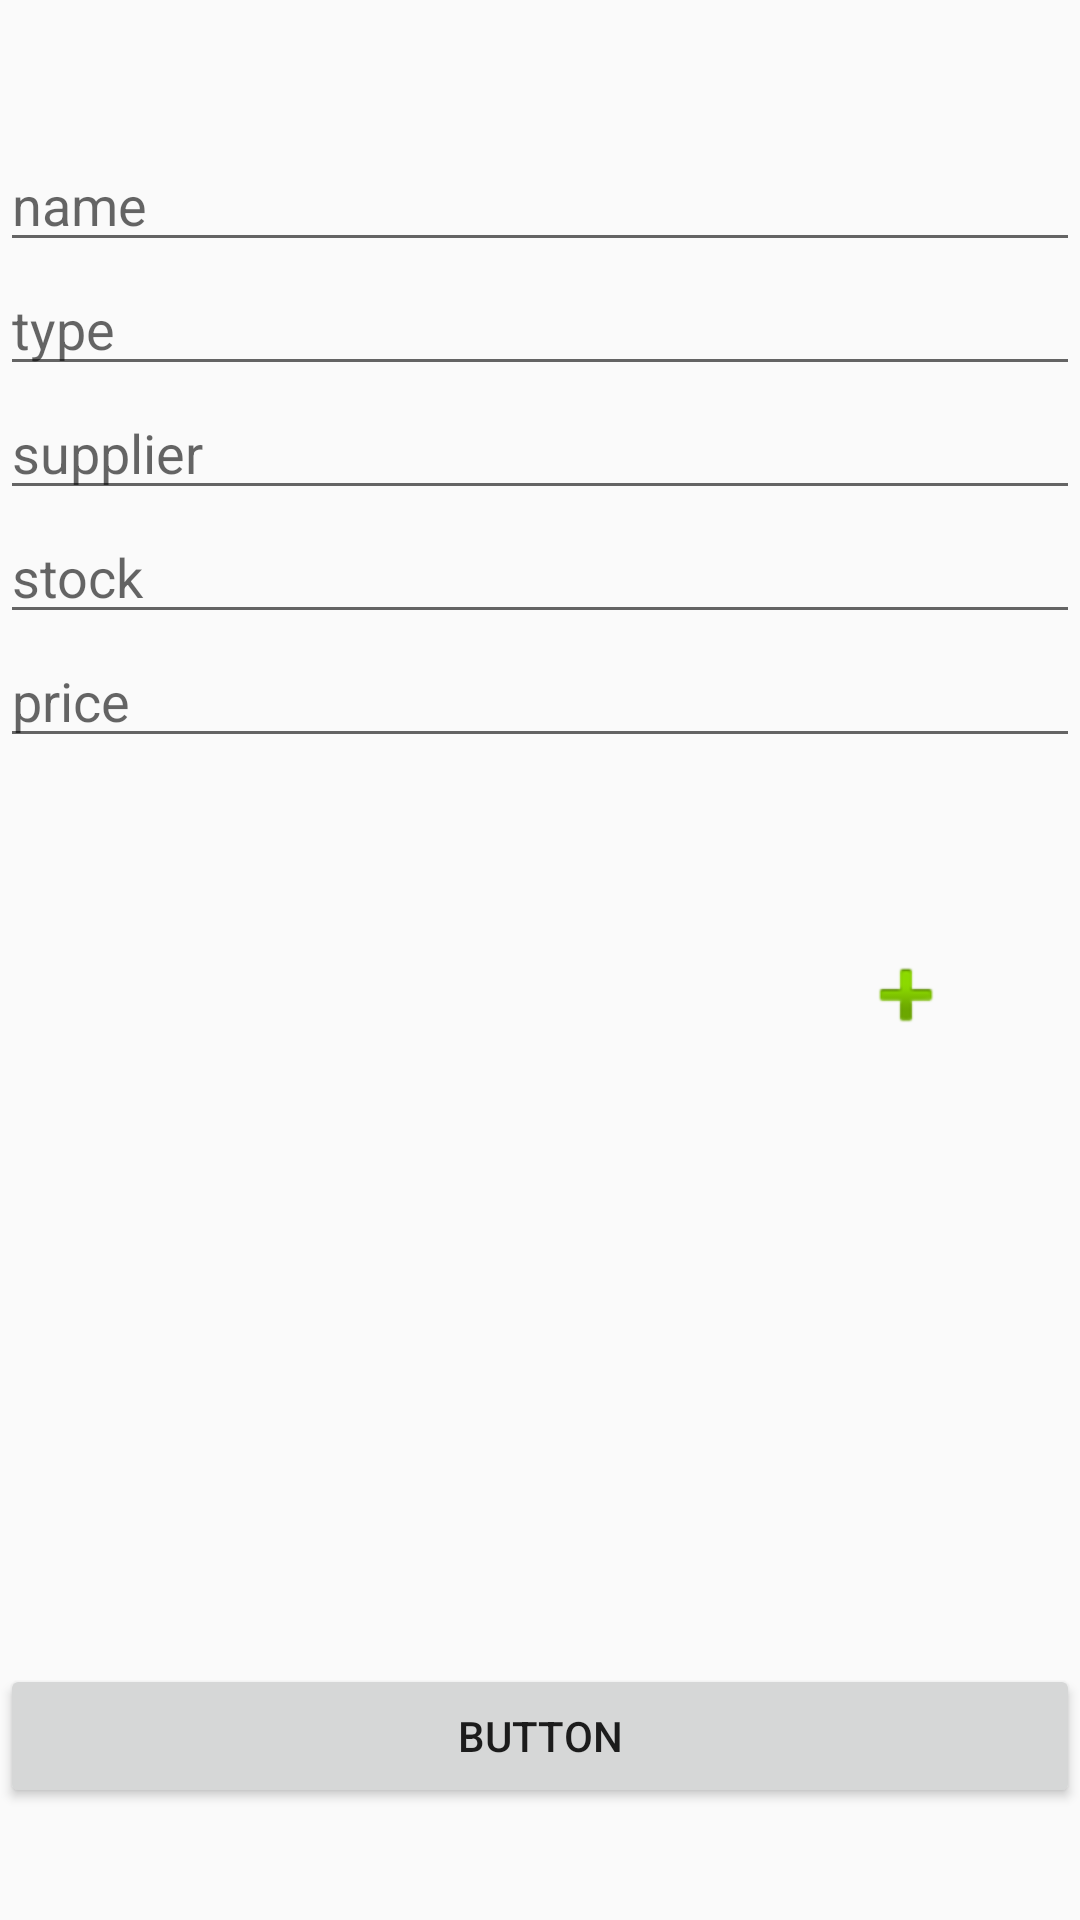

Icon click points for this 1080px×1920px phone screenshot, format (x=x, y=y):
add: (x=906, y=995)
